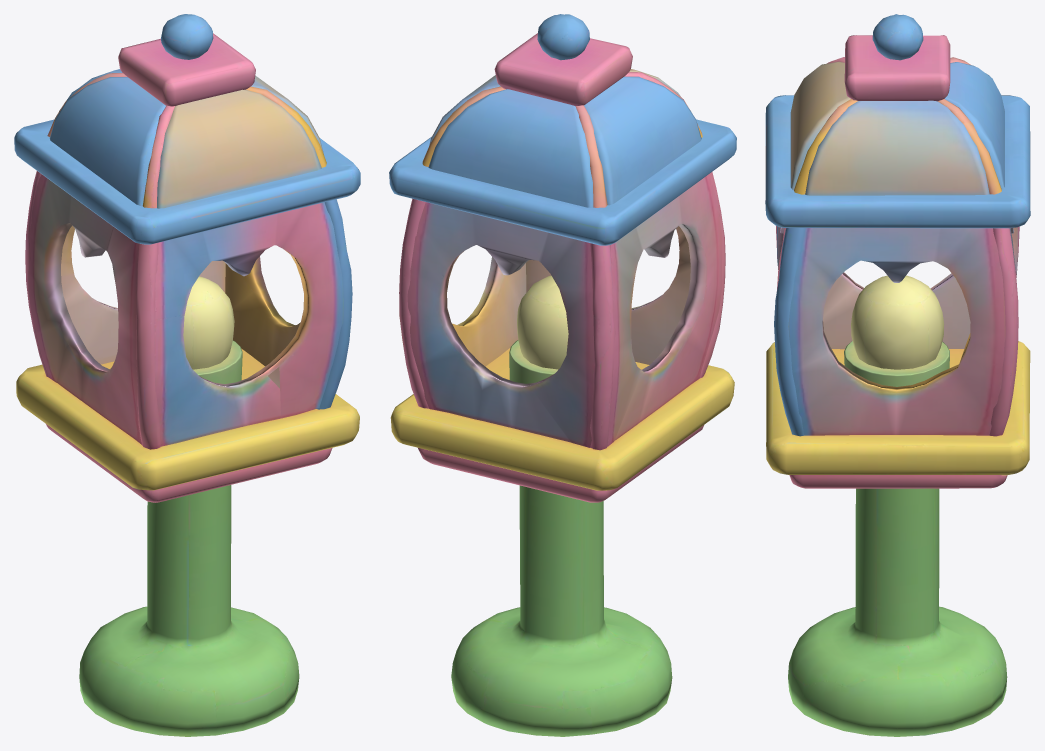
File: garden-lantern.glb
3 views of the same model, side by side, from view 1: azimuth 30°, elevation 25°; view 2: azimuth 150°, elevation 25°; view 3: azimuth 270°, elevation 25° (orthographic).
Parts seen in each view (by area): view 1: geometry_0; view 2: geometry_0; view 3: geometry_0.
Part boxes in pixels (left/top/right/bottom): geometry_0: left=14, top=14, right=360, bottom=736; geometry_0: left=389, top=14, right=736, bottom=736; geometry_0: left=765, top=14, right=1030, bottom=736.
Size of the model in its own units: 0.3564 by 1 by 0.3571.
Materials: 1 (1 with a texture image).
